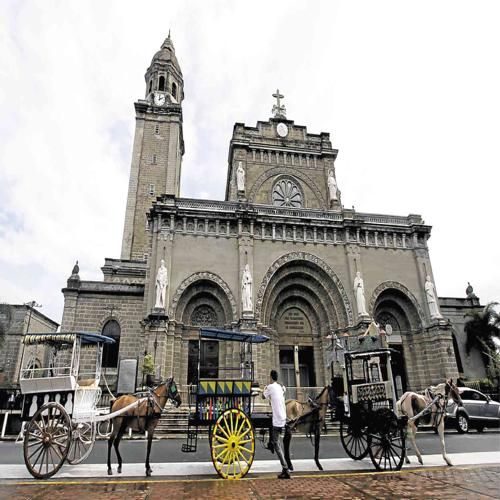Manila Cathedral Church: (48, 24, 472, 439)
